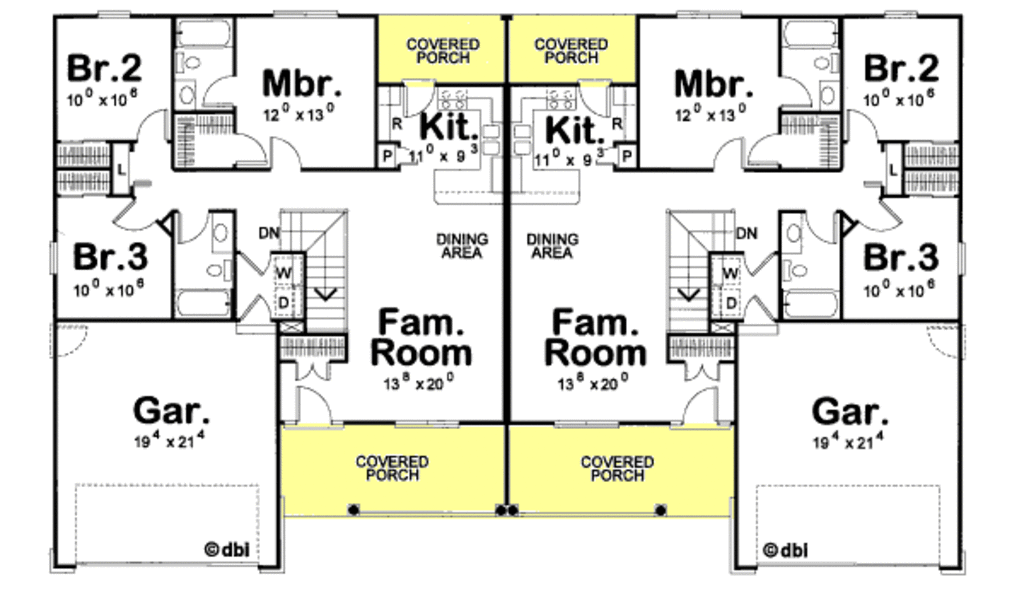door: (851, 195, 910, 244), (678, 382, 732, 428), (39, 316, 96, 359), (922, 321, 978, 364), (577, 76, 627, 121), (282, 390, 337, 426), (111, 194, 162, 232), (839, 106, 883, 149), (398, 76, 445, 114), (710, 134, 752, 176), (129, 103, 172, 144), (741, 295, 782, 337), (679, 353, 726, 388), (745, 129, 785, 170), (236, 288, 272, 332), (198, 76, 242, 110), (291, 357, 342, 386), (775, 68, 810, 109), (229, 127, 265, 166), (269, 135, 310, 168), (803, 209, 839, 246), (172, 208, 208, 245), (744, 245, 774, 277)
large_sink: (171, 44, 207, 78), (203, 260, 240, 285), (779, 258, 815, 283), (812, 46, 842, 74)
small_sink: (200, 208, 238, 252), (776, 209, 810, 253), (175, 76, 198, 113), (819, 78, 838, 115)
stairs: (660, 187, 737, 330), (275, 212, 359, 338)
tub: (175, 10, 239, 49), (783, 285, 842, 322), (174, 286, 238, 320), (779, 16, 844, 46)
twin_sink: (509, 119, 541, 159), (472, 122, 508, 157)
window: (551, 411, 630, 434), (388, 411, 467, 434), (670, 5, 747, 22), (86, 1, 143, 22), (265, 4, 349, 18), (885, 1, 929, 26), (951, 236, 971, 284), (42, 239, 63, 278)
